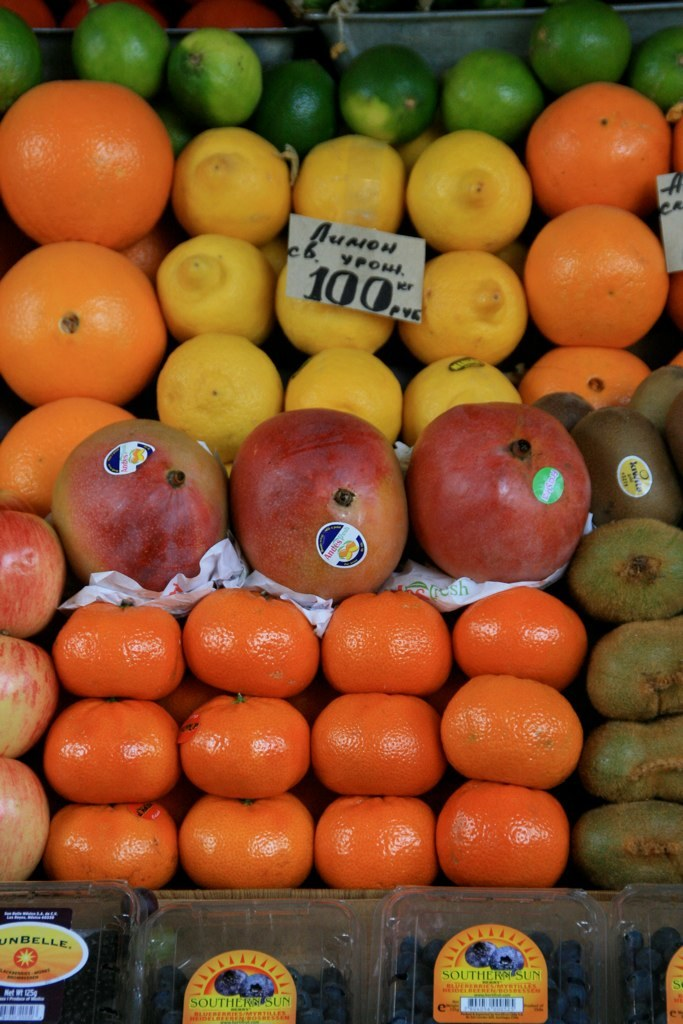Apple: (0, 506, 62, 634), (0, 638, 68, 752), (0, 752, 54, 892)
